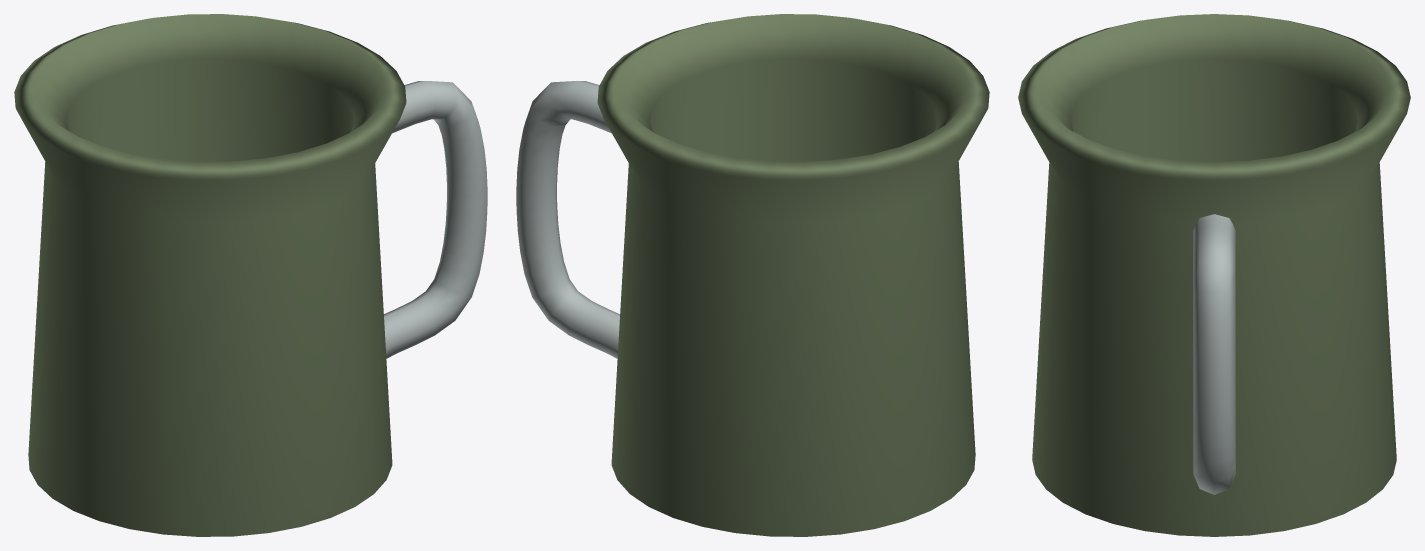
File: milk-pitcher.glb
The picture shows the model from 3 angles, left to right: view 1: azimuth 30°, elevation 25°; view 2: azimuth 150°, elevation 25°; view 3: azimuth 270°, elevation 25°; orthographic projection.
Parts seen in each view (by area): view 1: surface-#6F7F5F,0.35,0.38, surface-#AFB9B7,0.8,0.7; view 2: surface-#6F7F5F,0.35,0.38, surface-#AFB9B7,0.8,0.7; view 3: surface-#6F7F5F,0.35,0.38, surface-#AFB9B7,0.8,0.7.
Part boxes in pixels (x1,y1,x2,y2): surface-#6F7F5F,0.35,0.38: [14, 14, 406, 536]; surface-#AFB9B7,0.8,0.7: [384, 81, 487, 358]; surface-#6F7F5F,0.35,0.38: [597, 14, 989, 536]; surface-#AFB9B7,0.8,0.7: [516, 81, 619, 358]; surface-#6F7F5F,0.35,0.38: [1018, 14, 1410, 536]; surface-#AFB9B7,0.8,0.7: [1193, 214, 1235, 494].
Size of the model in its own units: 0.1465 by 0.123 by 0.112.
